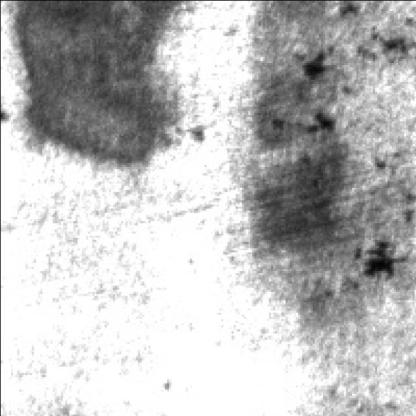patches: (10, 0, 181, 162), (246, 110, 354, 258)
